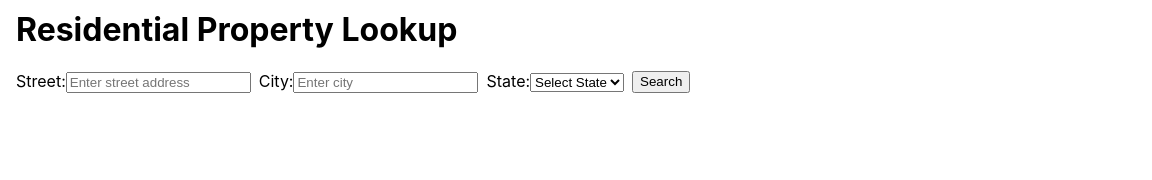
Test: App Component Tests › should display an error message if estimated value cannot be retrieved
Type "1252 Borregas Ave" into the field with placeholder "Enter street address" at (158, 82), box [66,72,251,93]
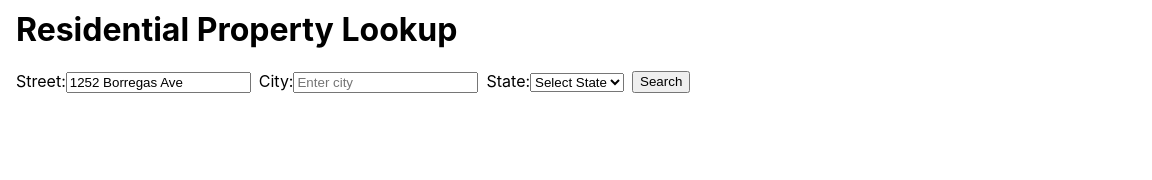
Type "Sunnyvale" into the field with placeholder "Enter city" at (386, 82), box [294,72,478,93]
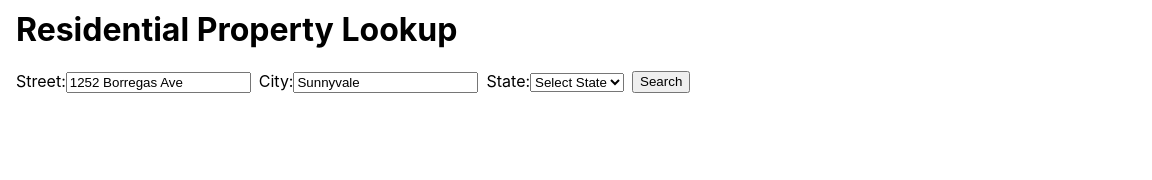
Select "CA" in the dropdown showing "Select State" at (577, 82), box [530,73,624,92]
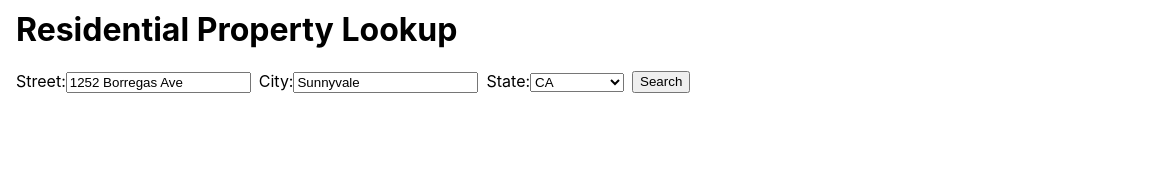
Click the button "Search" at (661, 82), box [632,71,690,93]
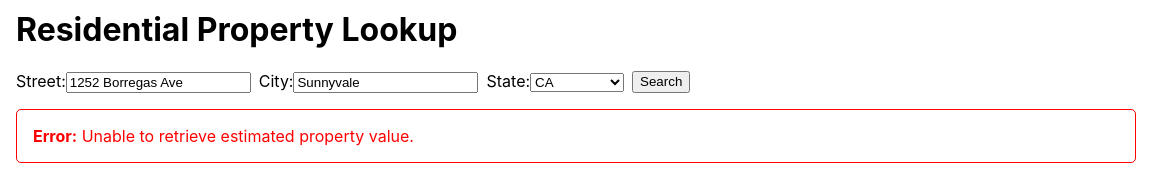
Result: the text "Unable to retrieve estimated property value." is shown at [82,126,414,146]
